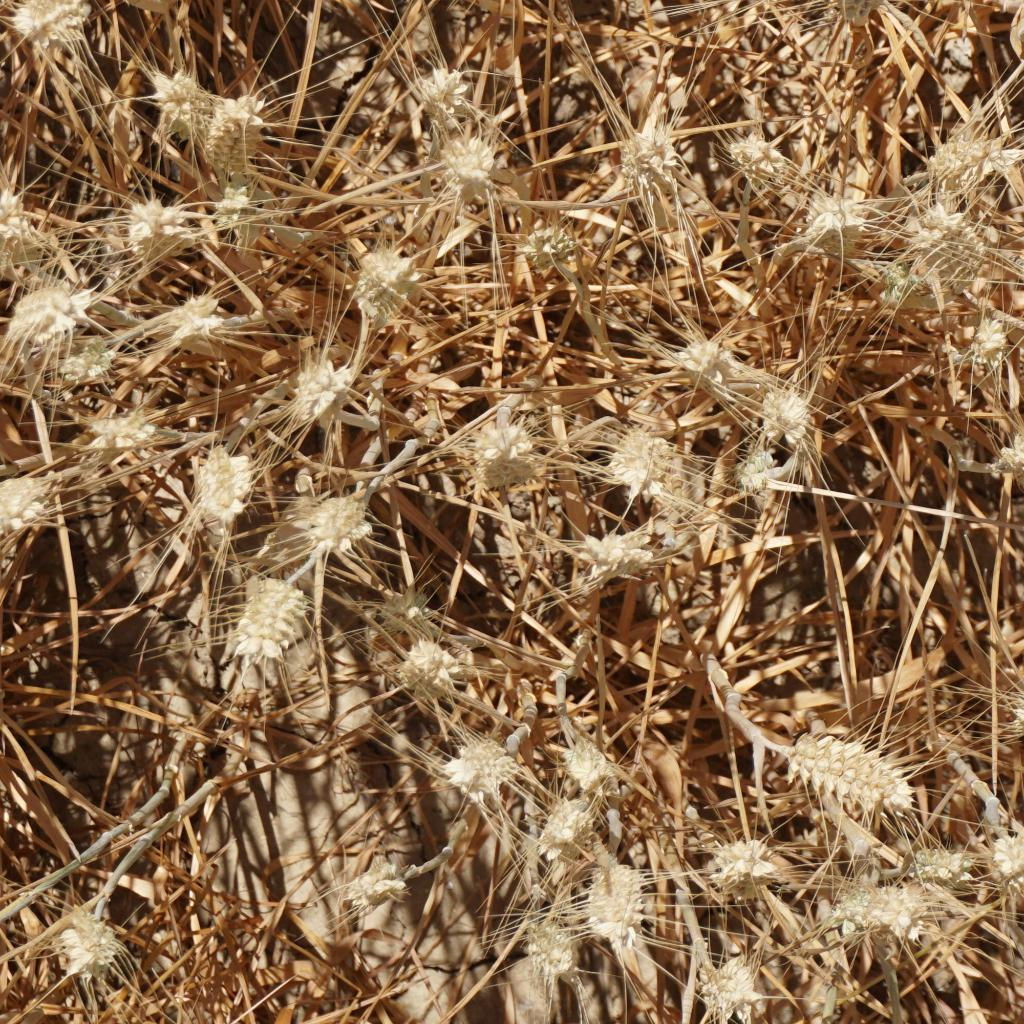0-0: (791, 725, 925, 822), (216, 576, 325, 670), (148, 268, 249, 368), (142, 58, 234, 153), (915, 115, 1024, 192), (444, 391, 533, 482), (606, 413, 691, 507), (565, 518, 668, 593), (277, 478, 372, 555), (728, 427, 815, 509), (824, 883, 924, 950), (744, 364, 828, 442), (549, 718, 633, 795), (204, 94, 273, 187), (7, 269, 90, 346), (533, 783, 610, 864), (612, 111, 683, 198), (185, 439, 258, 523), (912, 196, 995, 269), (580, 854, 649, 940), (282, 351, 357, 428), (350, 244, 421, 323), (724, 126, 803, 196), (800, 183, 879, 251), (440, 735, 518, 802), (125, 190, 193, 265), (669, 326, 738, 397), (4, 0, 96, 52), (84, 401, 159, 464), (344, 854, 420, 916), (54, 915, 131, 976), (702, 823, 774, 888), (388, 639, 463, 699), (519, 206, 581, 277), (701, 955, 764, 1024), (210, 185, 281, 245), (1, 183, 59, 256), (437, 121, 500, 188), (808, 0, 906, 38), (976, 825, 1024, 902), (410, 61, 472, 120), (0, 472, 57, 531), (373, 582, 434, 637), (984, 413, 1024, 496), (521, 928, 579, 985), (61, 339, 116, 398), (906, 845, 978, 890), (966, 309, 1011, 380), (992, 675, 1024, 740), (885, 261, 924, 310)
